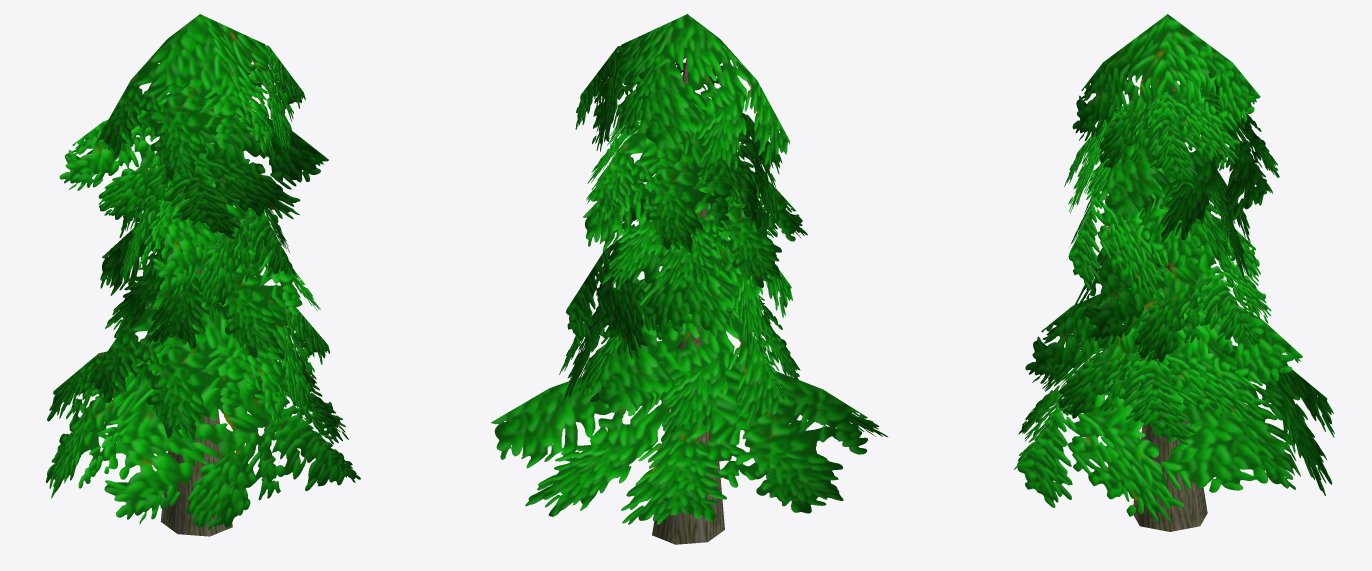
File: coffeetree.obj
3 views of the same model, side by side, from view 1: azimuth 30°, elevation 25°; view 2: azimuth 150°, elevation 25°; view 3: azimuth 270°, elevation 25° (orthographic). The views are drawn at different scales.
Visible parts, largest first — view 1: Duplicate01, Sphere02, Duplicate02, Duplicate05, Duplicate03, Duplicate04, Cylinder02; view 2: Duplicate01, Sphere02, Duplicate02, Duplicate05, Duplicate03, Duplicate04, Cylinder02; view 3: Duplicate01, Duplicate02, Sphere02, Duplicate03, Duplicate05, Duplicate04, Cylinder02.
Boxes of the visible parts, left/top/right/bottom form: Duplicate01: left=46, top=343, right=360, bottom=529; Sphere02: left=95, top=14, right=305, bottom=179; Duplicate02: left=85, top=272, right=329, bottom=442; Duplicate05: left=59, top=86, right=328, bottom=239; Duplicate03: left=100, top=202, right=320, bottom=357; Duplicate04: left=119, top=142, right=297, bottom=306; Cylinder02: left=160, top=239, right=232, bottom=536; Duplicate01: left=491, top=347, right=887, bottom=524; Sphere02: left=575, top=14, right=790, bottom=183; Duplicate02: left=559, top=271, right=800, bottom=447; Duplicate05: left=586, top=93, right=782, bottom=252; Duplicate03: left=566, top=220, right=792, bottom=358; Duplicate04: left=583, top=161, right=807, bottom=290; Cylinder02: left=652, top=58, right=724, bottom=544; Duplicate01: left=1014, top=333, right=1334, bottom=521; Duplicate02: left=1025, top=267, right=1302, bottom=445; Sphere02: left=1072, top=14, right=1260, bottom=188; Duplicate03: left=1065, top=203, right=1271, bottom=362; Duplicate05: left=1064, top=84, right=1279, bottom=242; Duplicate04: left=1067, top=134, right=1250, bottom=295; Cylinder02: left=1133, top=86, right=1207, bottom=531.
Size of the model in its own units: 45.34 by 54.47 by 36.88.
